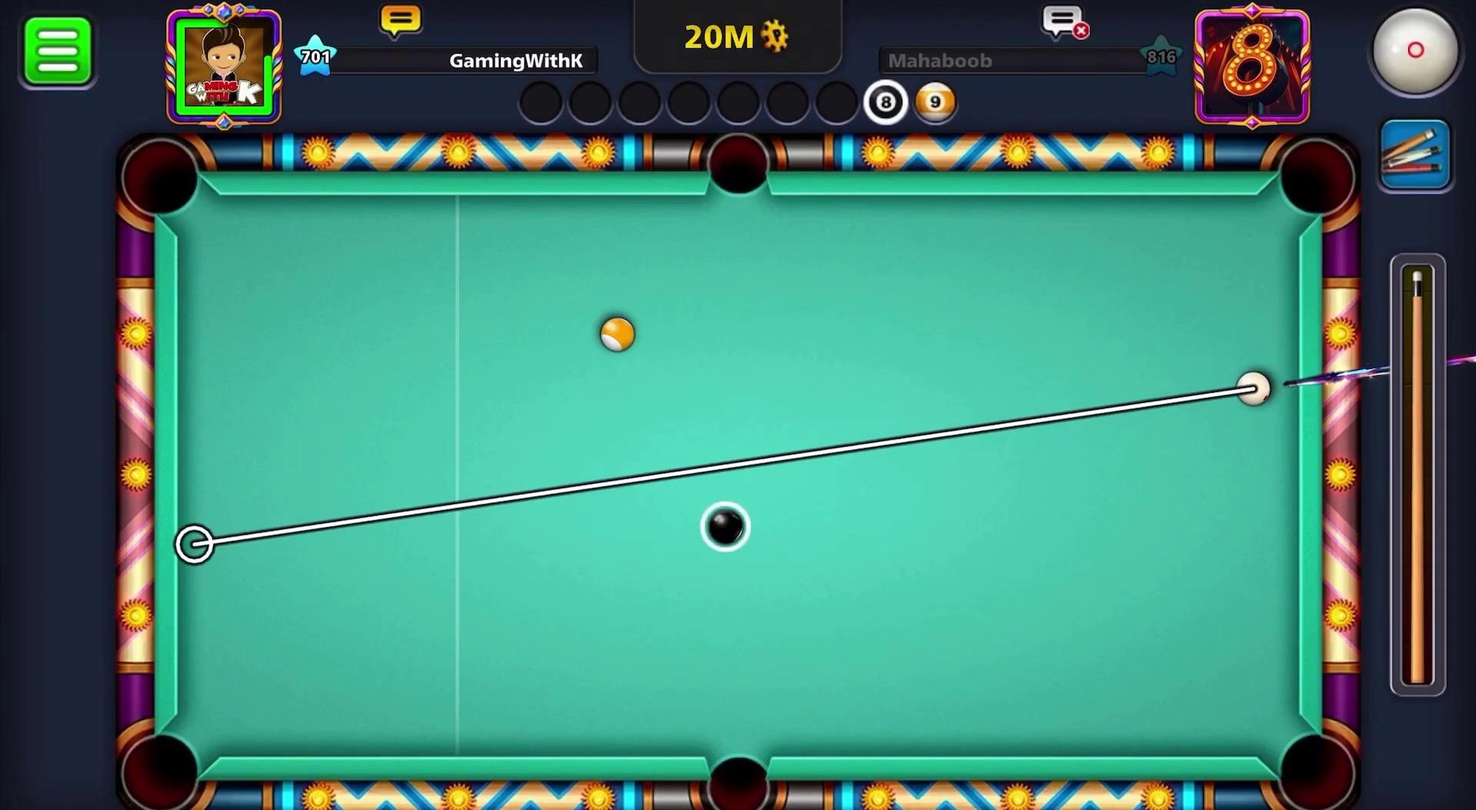Ball: (691, 496, 758, 556), (588, 310, 641, 357)
Force: (1385, 248, 1453, 699)
Guideline: (174, 370, 1271, 565)
Hole: (109, 130, 209, 229), (1269, 126, 1365, 229), (1264, 717, 1364, 809), (112, 724, 208, 809), (685, 735, 785, 809), (697, 128, 785, 207)
Play_Area: (177, 194, 1298, 762)
Spin: (1345, 0, 1475, 112)
White: (1230, 363, 1280, 415)
